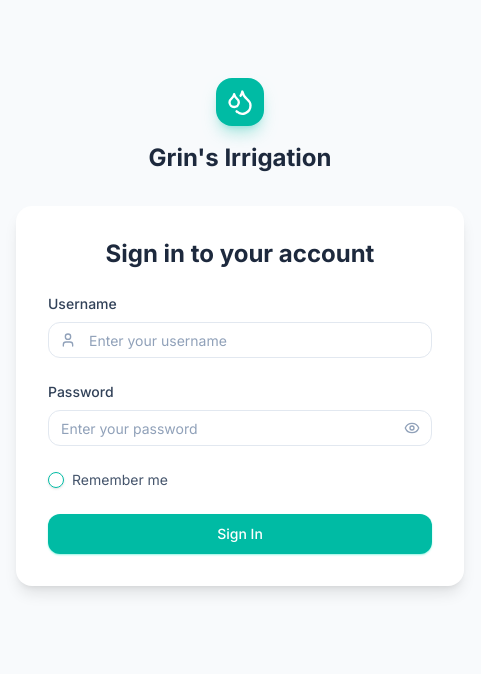
Test: LoginPage › shows error alert on invalid credentials
The image size is (481, 674).
Type "wronguser" into the field with test id "username-input". click: (240, 340)
box: [48,322,432,358]
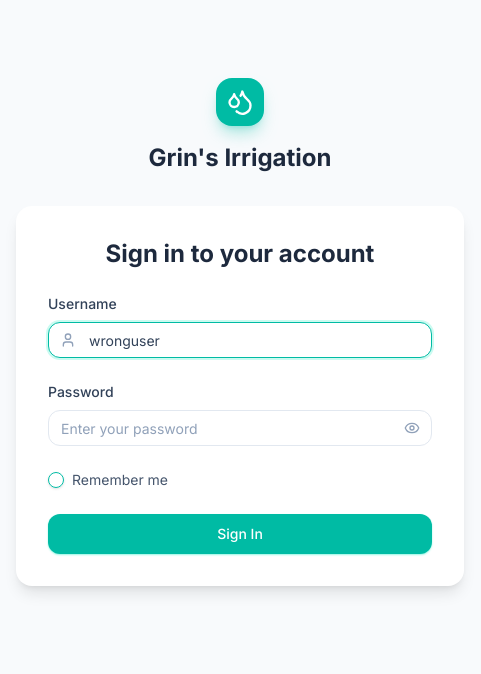
Type "wrongpass" into the password field with test id "password-input". click: (240, 428)
box: [48,410,432,446]
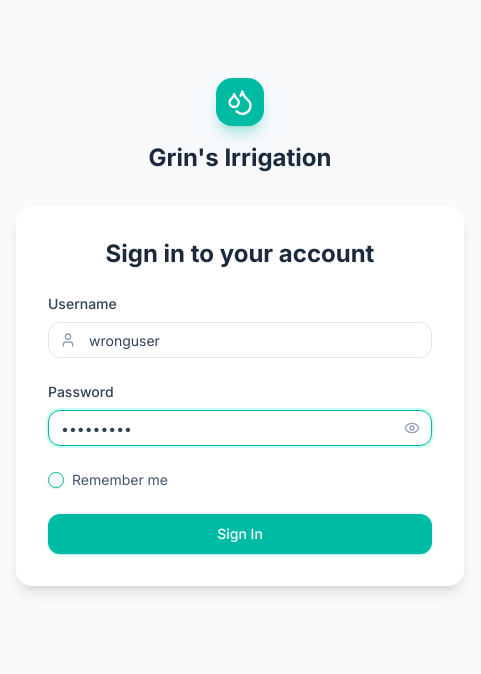
Click the button with test id "login-btn". click: (240, 534)
box: [48,514,432,554]
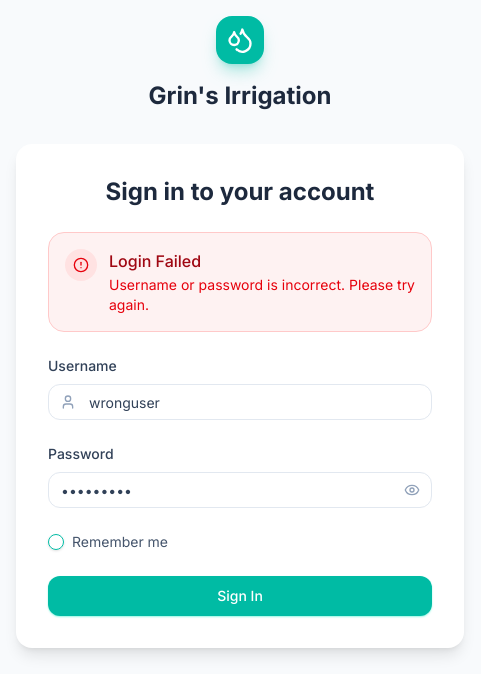
expect the element with test id "login-error" is shown: met, box [48,232,432,332]
expect the text "Username or password is incorrect. Please try again." is shown: met, box [109,275,415,315]
